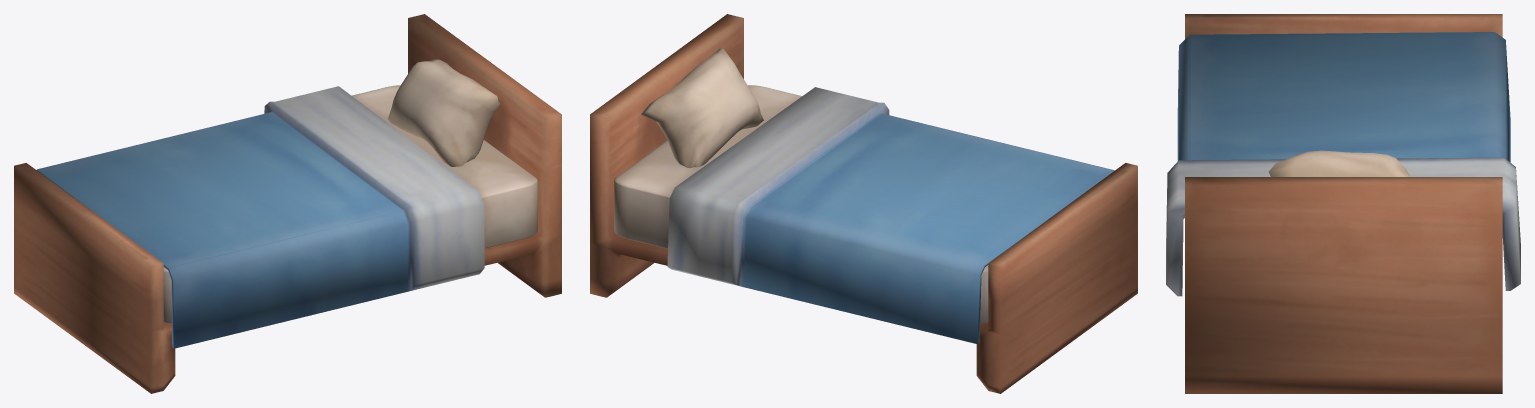
3 views of the same model, side by side, from view 1: azimuth 30°, elevation 25°; view 2: azimuth 150°, elevation 25°; view 3: azimuth 270°, elevation 25° (orthographic). The views are drawn at different scales.
Visible parts, largest first — view 1: cama (×4); view 2: cama (×4); view 3: cama (×3).
Boxes of the visible parts, x1,y1,x2,y2 form: cama (×4): (14,14,561,393); cama (×4): (590,14,1137,393); cama (×3): (1166,14,1520,393).
Size of the model in its own units: 2 by 0.8606 by 1.29.
Materials: 4 (4 with a texture image).
